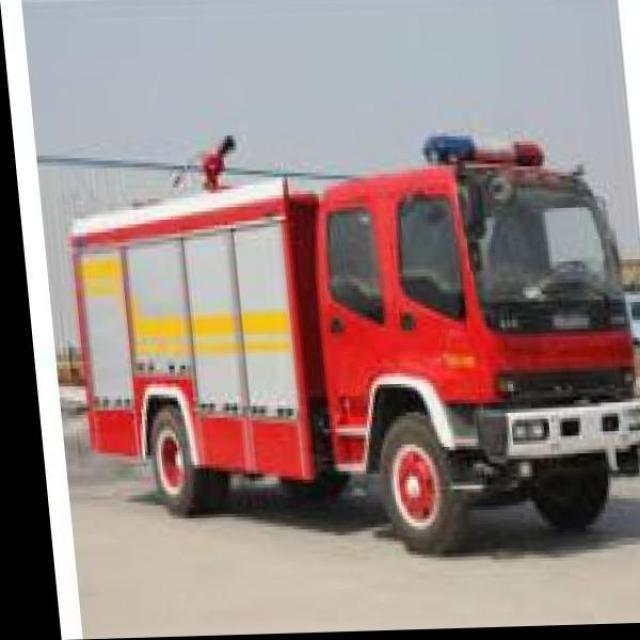emergency: (66, 130, 638, 554)
